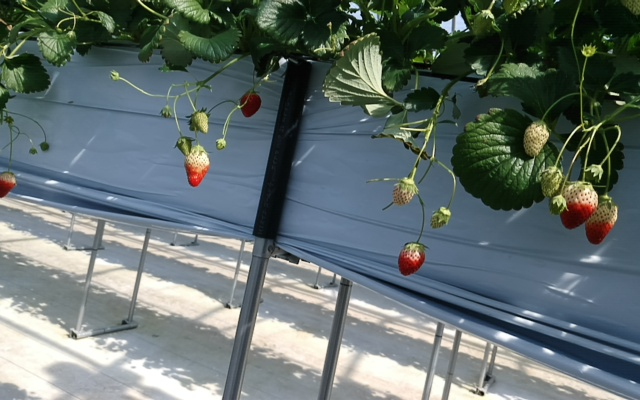GreenStrawberry: (522, 120, 551, 159), (540, 168, 564, 198), (393, 178, 417, 207), (190, 109, 210, 135), (429, 210, 449, 231), (178, 138, 190, 152)
MatureStrawberry: (563, 184, 600, 231), (586, 198, 620, 247), (397, 240, 426, 277), (187, 149, 211, 188), (239, 92, 263, 117), (1, 170, 17, 204)
